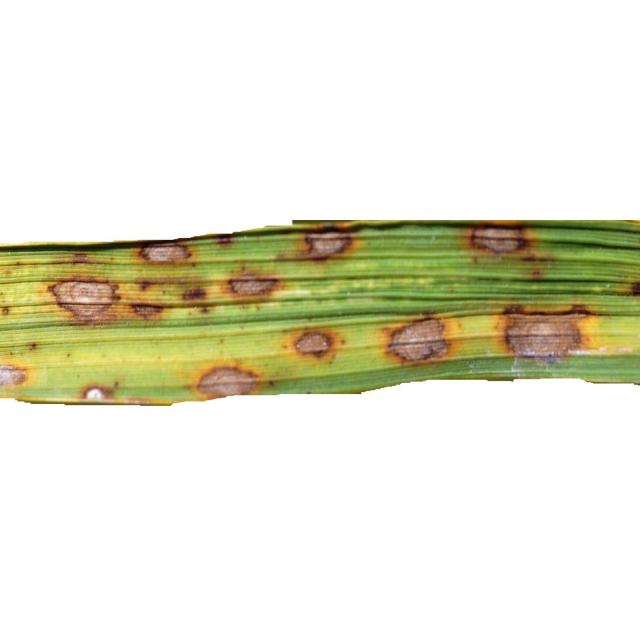Brown spot: (0, 196, 640, 422)
